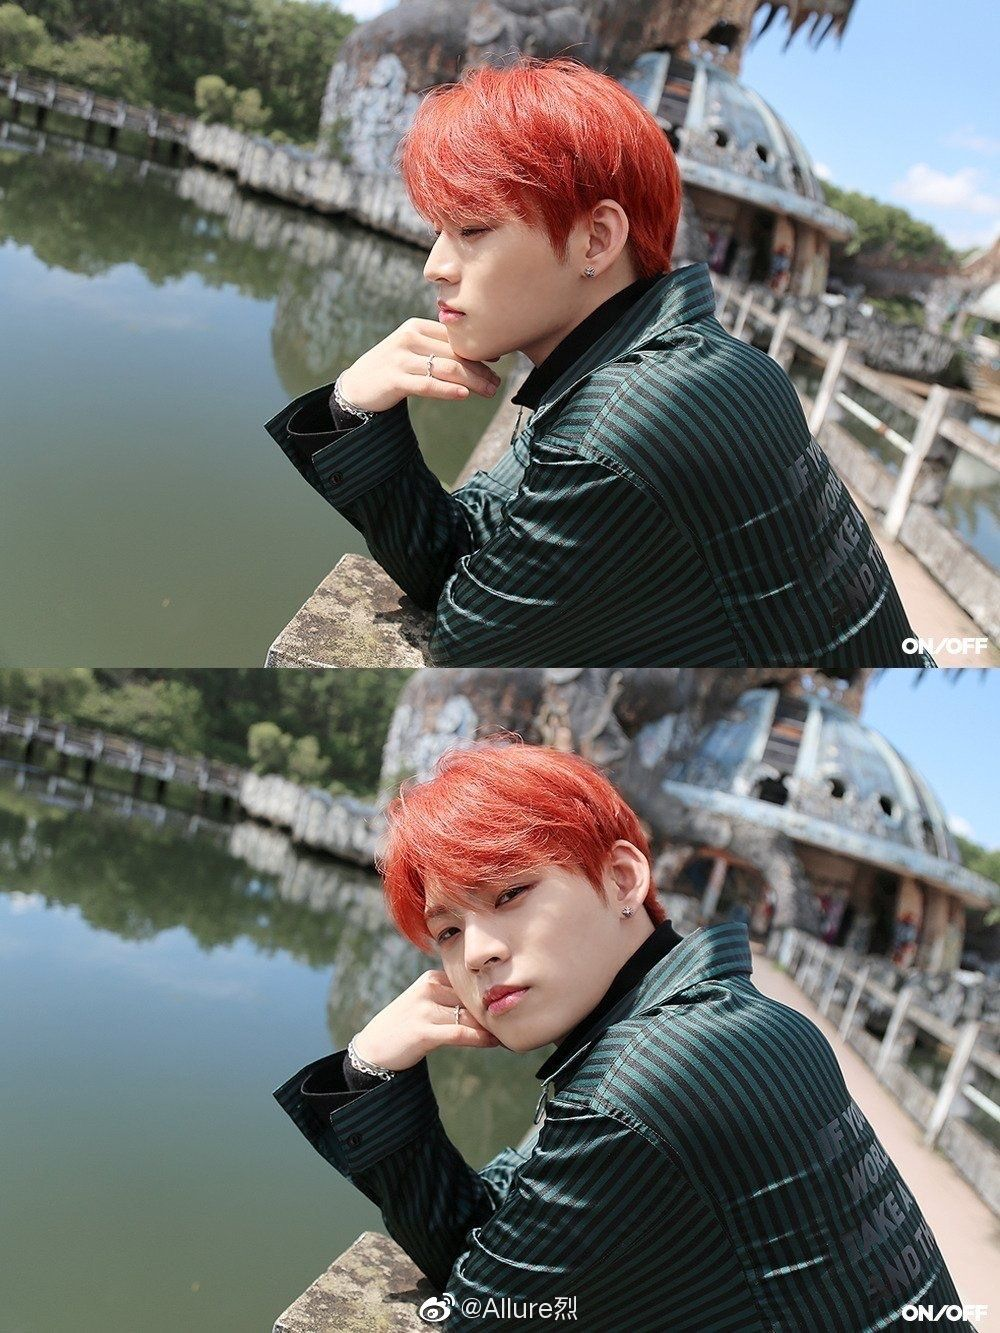person: (254, 750, 814, 1333), (320, 81, 785, 678)
